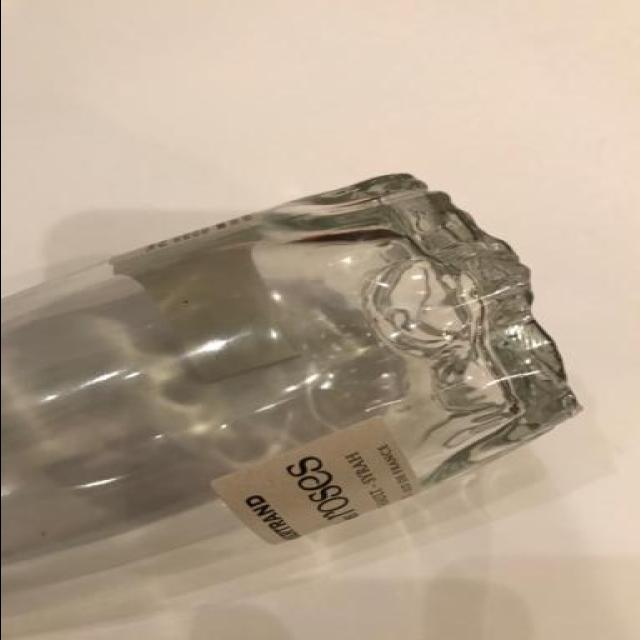litter: (1, 172, 586, 584)
